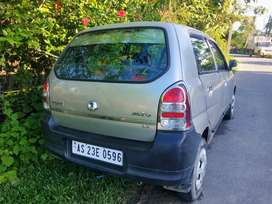AS23E0596: (71, 139, 122, 165)
